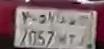0: (28, 16, 37, 48)
5: (37, 13, 45, 46)
7: (18, 10, 28, 46), (45, 11, 54, 47)
H: (59, 16, 66, 46)
J: (77, 17, 83, 47)
T: (66, 15, 75, 48)
